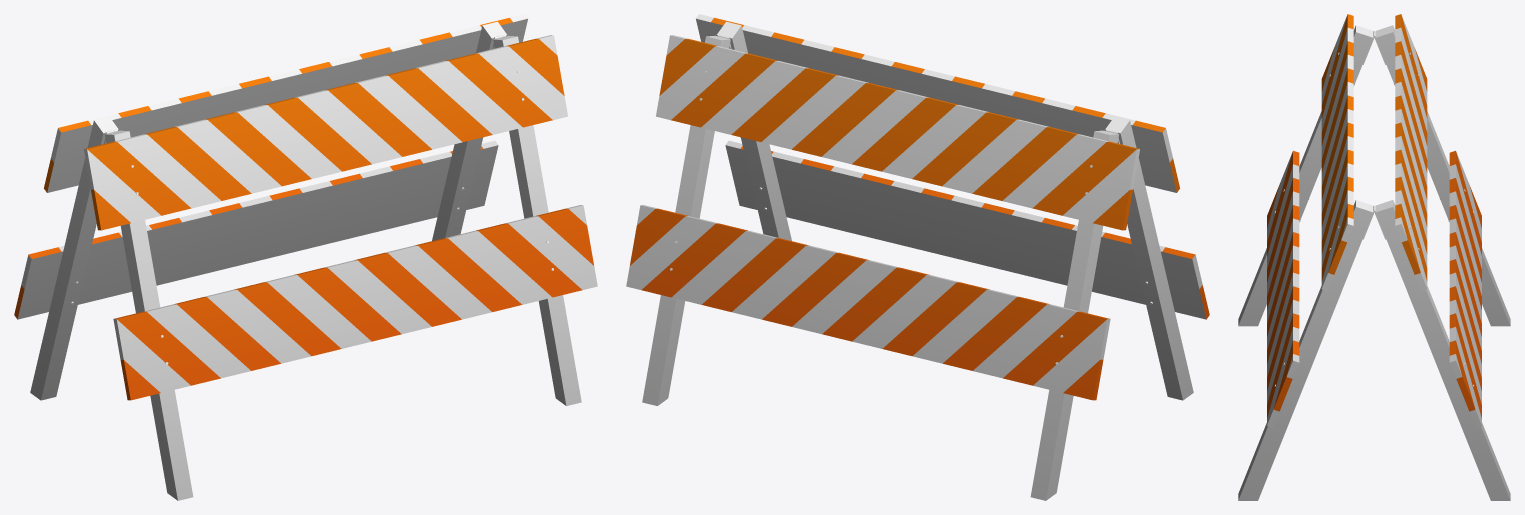
Rendered from type_ii_barricade_01_large.glb.
The picture shows the model from 3 angles, left to right: view 1: azimuth 30°, elevation 25°; view 2: azimuth 150°, elevation 25°; view 3: azimuth 270°, elevation 25°; orthographic projection. The views are drawn at different scales.
Parts seen in each view (by area): view 1: type_ii_barricade_01_large; view 2: type_ii_barricade_01_large; view 3: type_ii_barricade_01_large.
Part boxes in pixels (bbox=[...]): type_ii_barricade_01_large: bbox=[14, 14, 597, 500]; type_ii_barricade_01_large: bbox=[626, 14, 1209, 500]; type_ii_barricade_01_large: bbox=[1238, 14, 1510, 500].
Bounding box in the file's own units: 1.51 × 0.9894 × 0.8304.
1 material, 1 textured.
